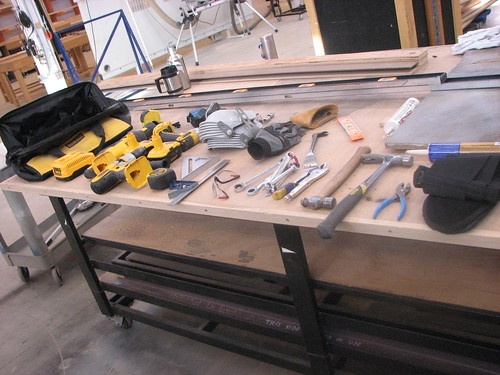hammer: (314, 153, 417, 239), (299, 144, 374, 209)
